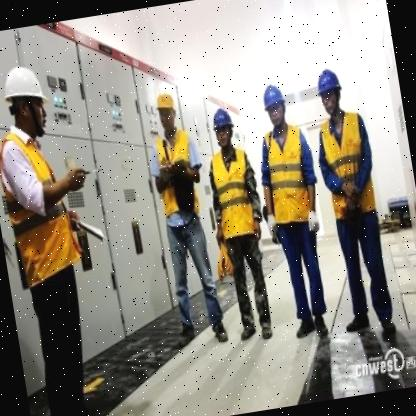capacete: (0, 58, 58, 145), (312, 65, 346, 116), (259, 81, 289, 130), (208, 105, 238, 150), (152, 89, 178, 132)
colete_refletivo: (0, 122, 82, 287), (310, 110, 381, 218), (252, 118, 322, 224), (144, 128, 210, 223), (204, 145, 265, 240)
